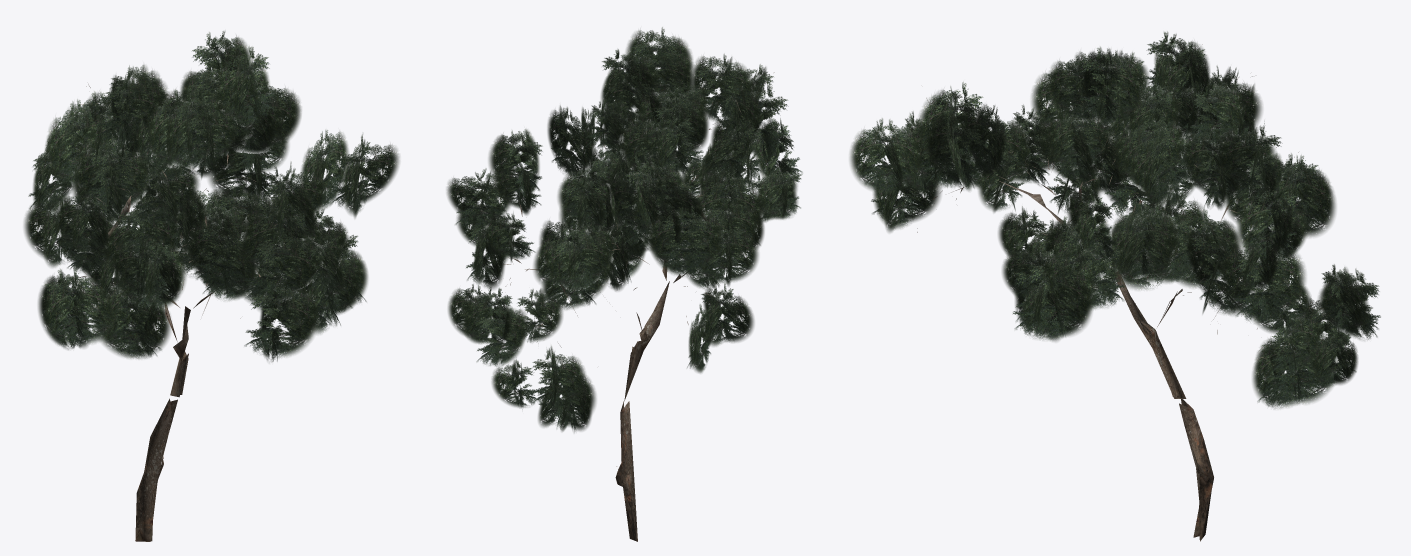
The model's file is tree-v2-mobile.glb.
The picture shows the model from 3 angles, left to right: view 1: azimuth 30°, elevation 25°; view 2: azimuth 150°, elevation 25°; view 3: azimuth 270°, elevation 25°; orthographic projection. The views are drawn at different scales.
Visible parts, largest first — view 1: tree-v2-mobile; view 2: tree-v2-mobile; view 3: tree-v2-mobile.
Part boxes in pixels (bbox=[...]): tree-v2-mobile: bbox=[24, 31, 399, 541]; tree-v2-mobile: bbox=[447, 27, 802, 541]; tree-v2-mobile: bbox=[850, 31, 1380, 541].
Size of the model in its own units: 9.24 by 14.9 by 14.25.
3 materials, 3 textured.
